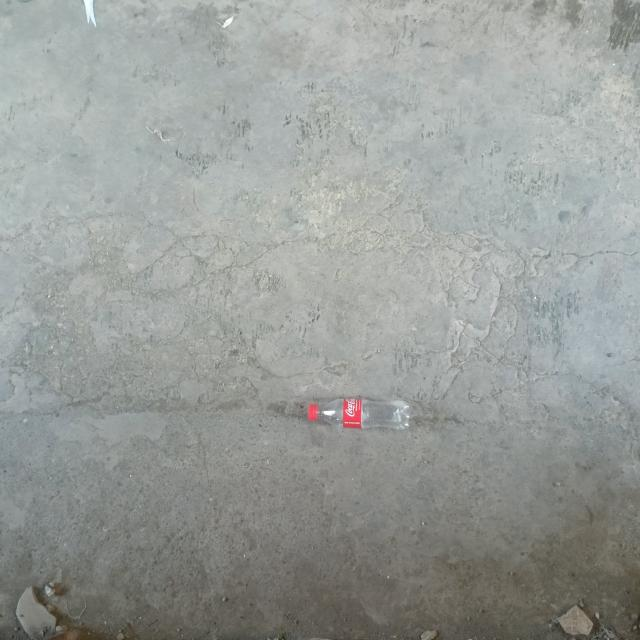Bottle: (308, 398, 410, 430)
